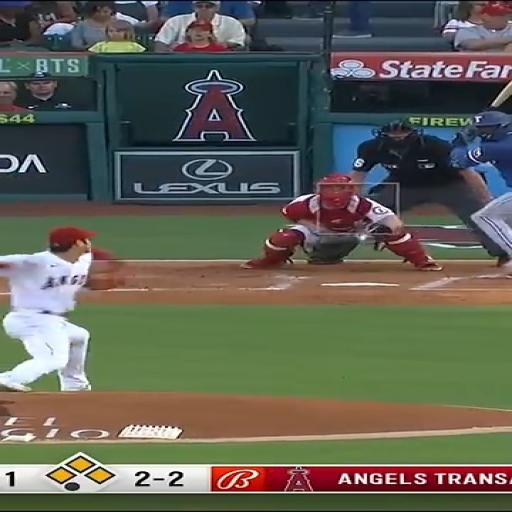bat: (491, 81, 511, 107)
